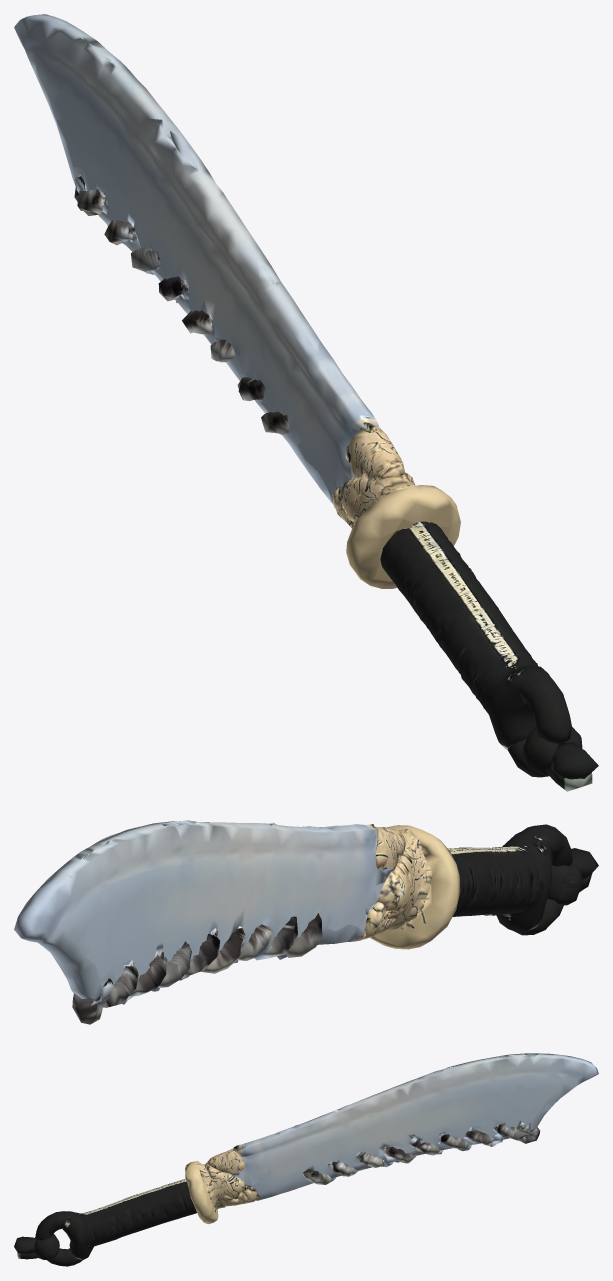
The model's file is guofengjzwuq2.fbx.
The picture shows the model from 3 angles, top to bottom: view 1: azimuth 30°, elevation 25°; view 2: azimuth 150°, elevation 25°; view 3: azimuth 270°, elevation 25°; orthographic projection. The views are drawn at different scales.
Parts seen in each view (by area): view 1: node_25445c67; view 2: node_25445c67; view 3: node_25445c67.
Part boxes in pixels (<box>): node_25445c67: <box>14,14,598,791</box>; node_25445c67: <box>14,820,598,1024</box>; node_25445c67: <box>14,1053,598,1266</box>.
Size of the model in its own units: 0.1055 by 0.3825 by 0.9639.
